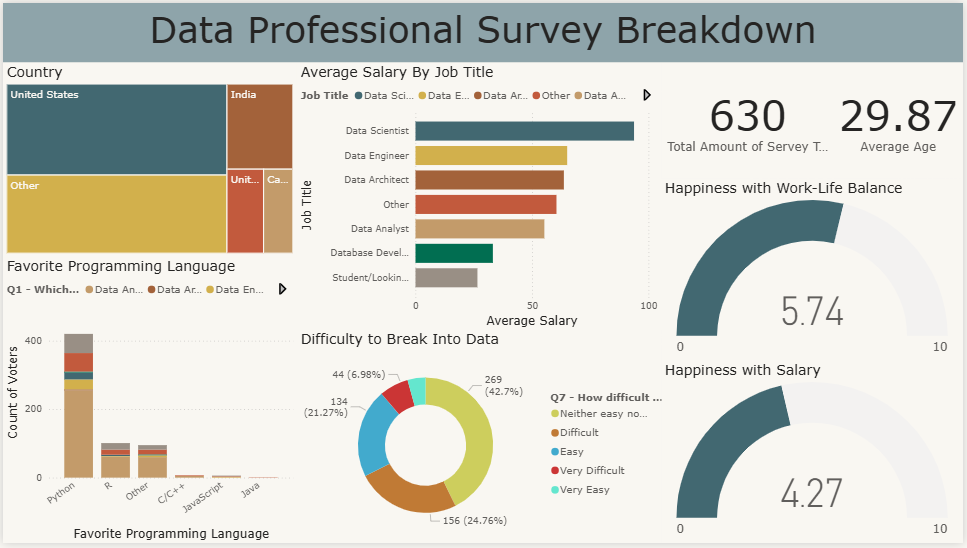

The dashboard page shown, as its layout file describes it:
{"tool":"powerbi","page":{"name":"Page 1","canvas":[1280,720],"ordinal":0},"visuals":[{"type":"textbox","box":[0,0,1280,79.5],"z":0},{"type":"card","fields":{"Values":["CountNonNull(Data Professional Survey.Unique ID)"]},"box":[877.1,80,231.4,154.3],"z":2},{"type":"card","fields":{"Values":["Avg(Data Professional Survey.Q10 - Current Age)"]},"box":[1108.6,80,171.4,154.3],"z":3},{"type":"barChart","title":"Average Salary By Job Title","fields":{"Category":["Data Professional Survey.Q1 - Which Title Best Fits your Current Role?.1"],"Y":["Avg(Data Professional Survey.Average Salary)"],"Series":["Data Professional Survey.Q1 - Which Title Best Fits your Current Role?.1"]},"box":[392.1,79.4,485.7,357.1],"z":4},{"type":"columnChart","title":"Favorite Programming Language","fields":{"Category":["Data Professional Survey.Q5 - Favorite Programming Language.1"],"Y":["CountNonNull(Data Professional Survey.Unique ID)"],"Series":["Data Professional Survey.Q1 - Which Title Best Fits your Current Role?.1"]},"box":[0,338.1,392.1,382.5],"z":5},{"type":"treemap","title":"Country","fields":{"Group":["Data Professional Survey.Q11 - Which Country do you live in?.1"],"Values":["CountNonNull(Data Professional Survey.Q11 - Which Country do you live in?.1)"]},"box":[0,80,391.4,258.6],"z":6},{"type":"gauge","title":"Happiness with Work-Life Balance","fields":{"Y":["Avg(Data Professional Survey.Q6 - How Happy are you in your Current Position with the following? (Work/Life Balance))"],"MinValue":["Min(Data Professional Survey.Q6 - How Happy are you in your Current Position with the following? (Work/Life Balance))1"],"MaxValue":["Max(Data Professional Survey.Q6 - How Happy are you in your Current Position with the following? (Work/Life Balance))2"]},"box":[877.1,234.3,402.9,242.9],"z":7},{"type":"gauge","title":"Happiness with Salary","fields":{"Y":["Avg(Data Professional Survey.Q6 - How Happy are you in your Current Position with the following? (Salary))"],"MinValue":["Min(Data Professional Survey.Q6 - How Happy are you in your Current Position with the following? (Salary))1"],"MaxValue":["Max(Data Professional Survey.Q6 - How Happy are you in your Current Position with the following? (Salary))2"]},"box":[877.1,477.1,402.9,242.9],"z":8},{"type":"donutChart","title":"Difficulty to Break Into Data","fields":{"Category":["Data Professional Survey.Q7 - How difficult was it for you to break into Data?"],"Y":["CountNonNull(Data Professional Survey.Q7 - How difficult was it for you to break into Data?)"]},"box":[392.1,436.5,485.7,284.1],"z":9}]}

Visuals, with their boxes in screenshot pixels (x1, y1, x2, y2), scaled from the page's 1280x720 canvas onto the 967x548 screenshot:
textbox: bbox=[0, 0, 966, 61]
card - CountNonNull(Data Professional Survey.Unique ID): bbox=[663, 61, 837, 178]
card - Avg(Data Professional Survey.Q10 - Current Age): bbox=[838, 61, 966, 178]
"Average Salary By Job Title" barChart: bbox=[296, 60, 663, 332]
"Favorite Programming Language" columnChart: bbox=[0, 257, 296, 547]
"Country" treemap: bbox=[0, 61, 296, 258]
"Happiness with Work-Life Balance" gauge: bbox=[663, 178, 966, 363]
"Happiness with Salary" gauge: bbox=[663, 363, 966, 547]
"Difficulty to Break Into Data" donutChart: bbox=[296, 332, 663, 547]
